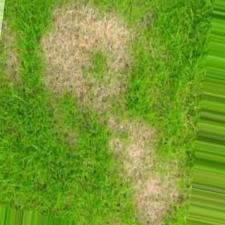patch: (47, 16, 125, 93), (102, 112, 152, 172), (140, 180, 168, 205)
